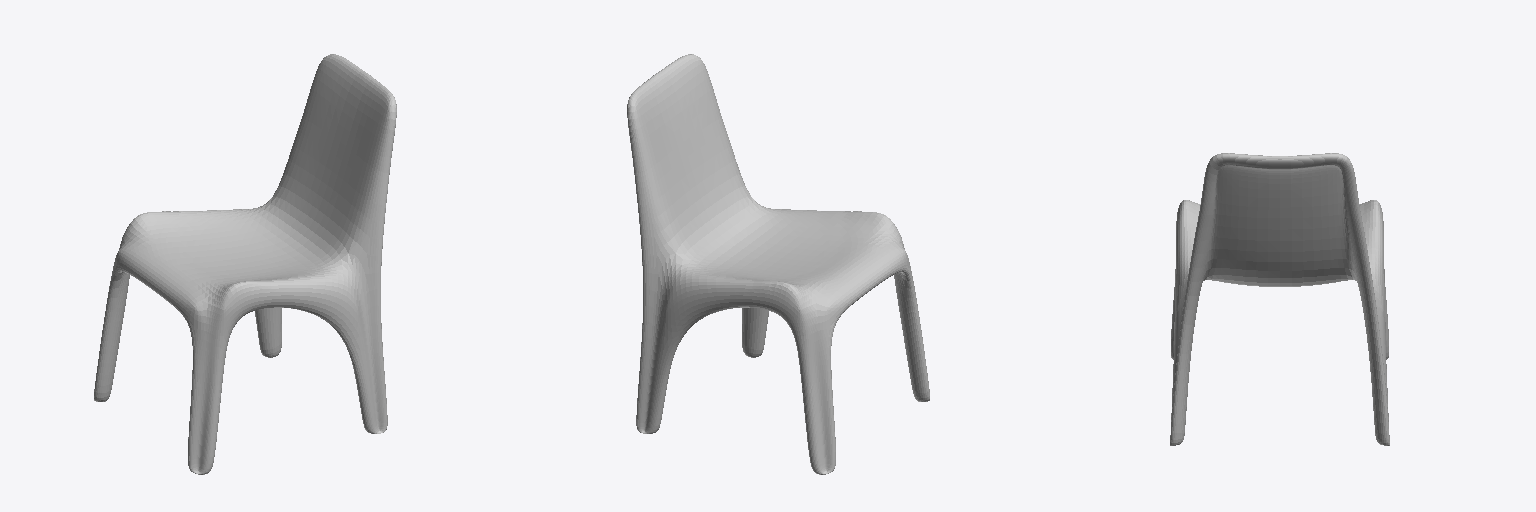
Rendered from chairTwo.obj.
The picture shows the model from 3 angles: view 1: azimuth 30°, elevation 25°; view 2: azimuth 150°, elevation 25°; view 3: azimuth 270°, elevation 25°; orthographic projection.
Parts seen in each view (by area): view 1: 20335_Bofinger_Chair_V1.001; view 2: 20335_Bofinger_Chair_V1.001; view 3: 20335_Bofinger_Chair_V1.001.
Part boxes in pixels (bbox=[...]): 20335_Bofinger_Chair_V1.001: bbox=[94, 54, 396, 474]; 20335_Bofinger_Chair_V1.001: bbox=[627, 54, 929, 474]; 20335_Bofinger_Chair_V1.001: bbox=[1170, 153, 1389, 445].
Bounding box in the file's own units: 0.8834 × 1.14 × 0.7363.